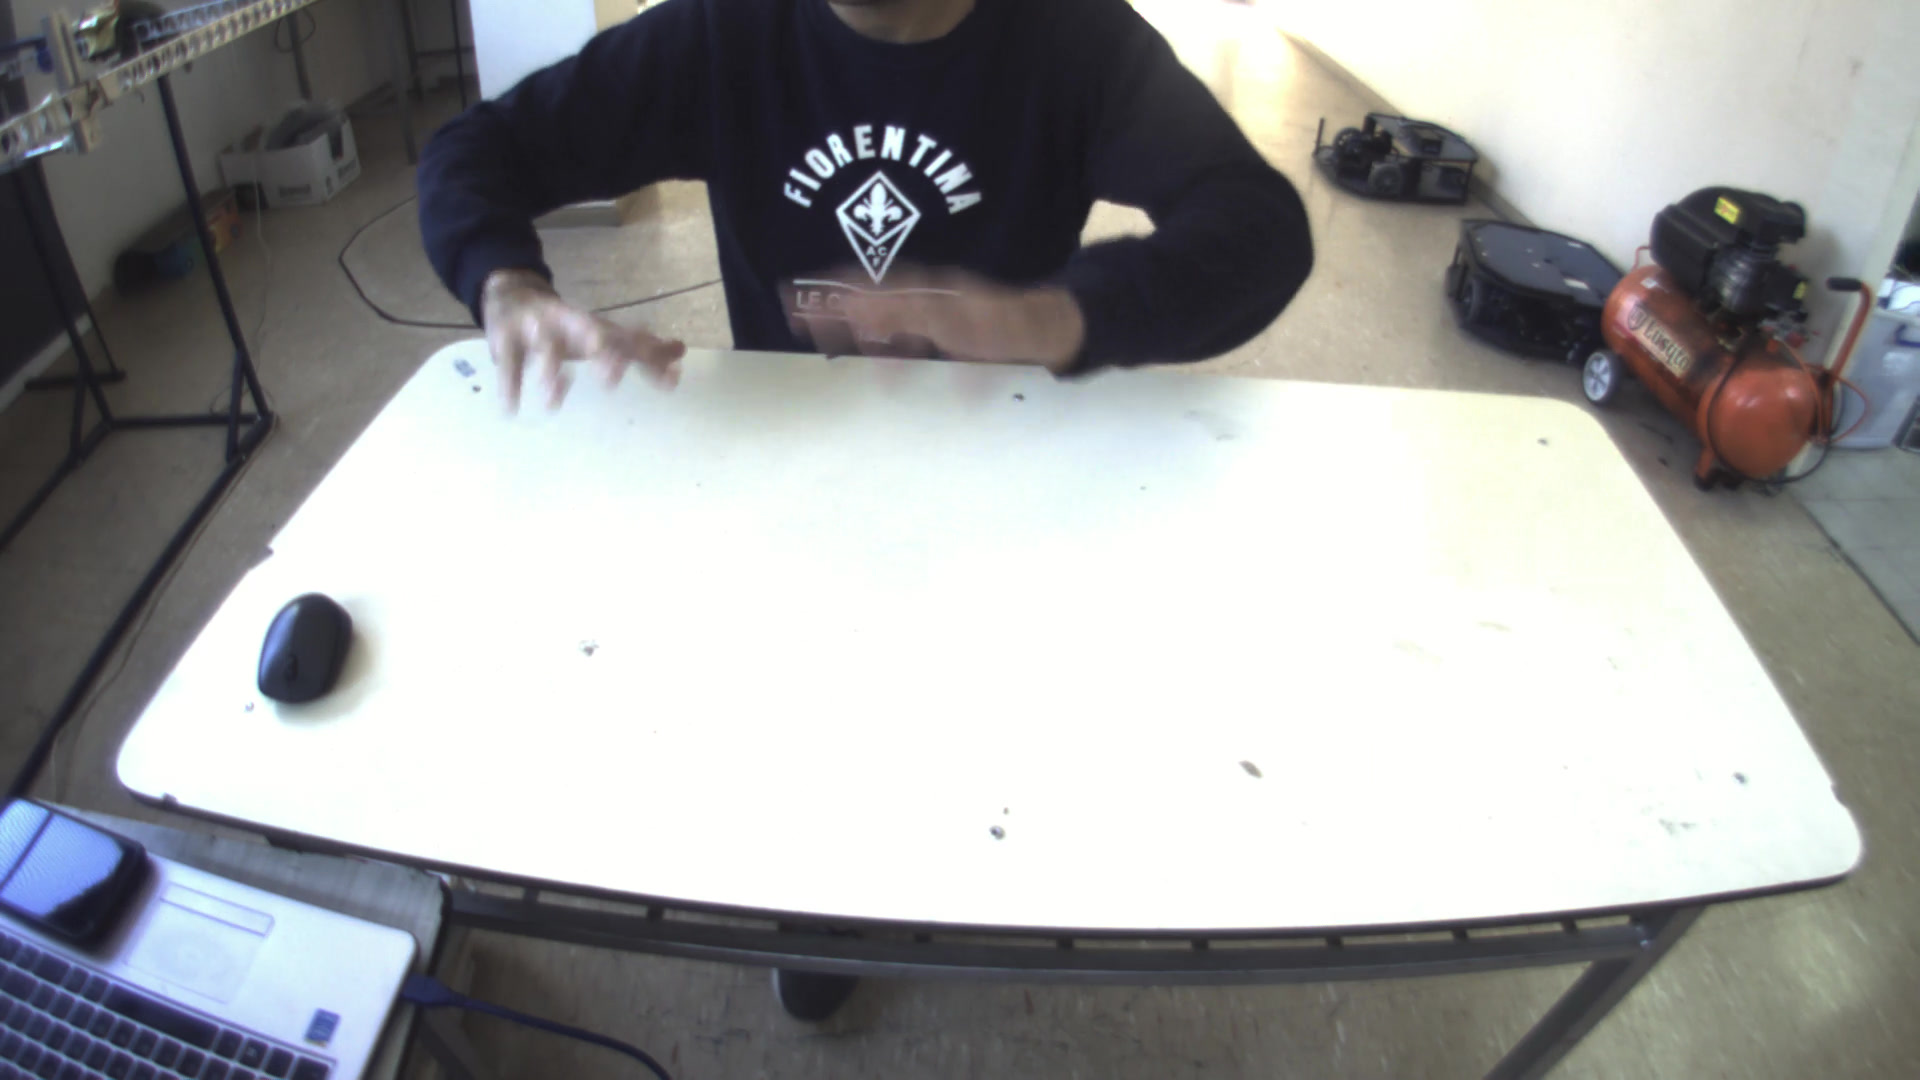hand: (455, 262, 684, 414)
